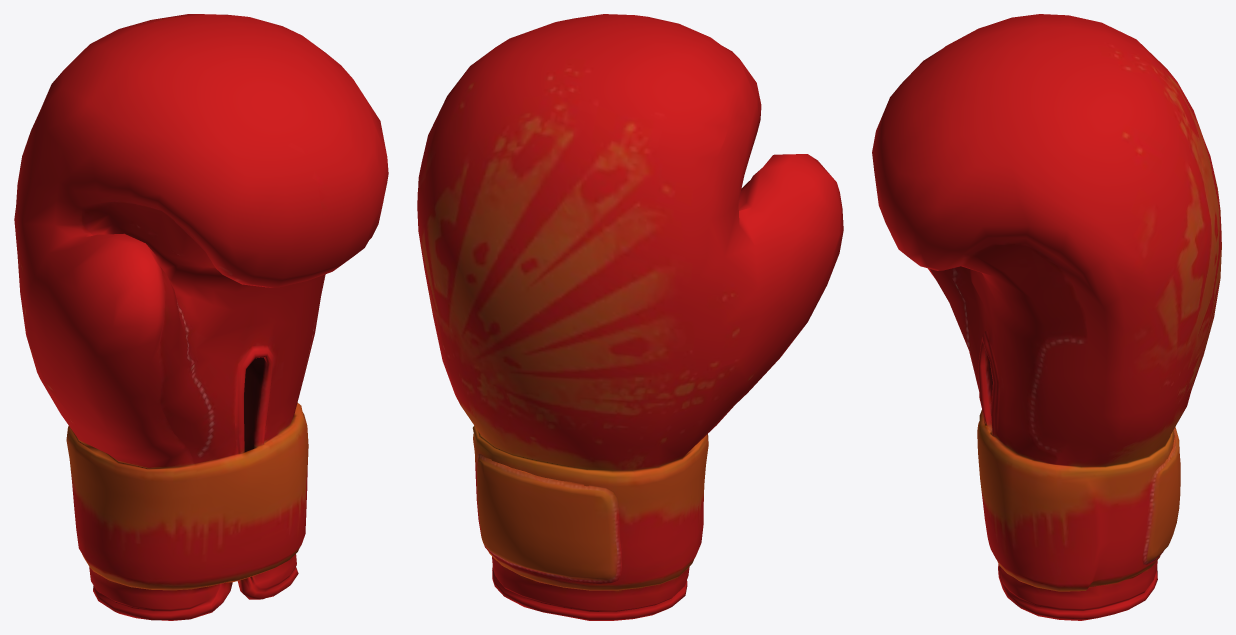
Rendered from boxing_glove.glb.
3 views of the same model, side by side, from view 1: azimuth 30°, elevation 25°; view 2: azimuth 150°, elevation 25°; view 3: azimuth 270°, elevation 25° (orthographic). The views are drawn at different scales.
Visible parts, largest first — view 1: boxeglove_model; view 2: boxeglove_model; view 3: boxeglove_model.
Boxes of the visible parts, box(x1,y1,x2,y2) form: boxeglove_model: box(14, 14, 388, 620); boxeglove_model: box(417, 14, 843, 620); boxeglove_model: box(872, 14, 1221, 620).
Bounding box in the file's own units: 119 × 186 × 110.
1 material, 1 textured.
